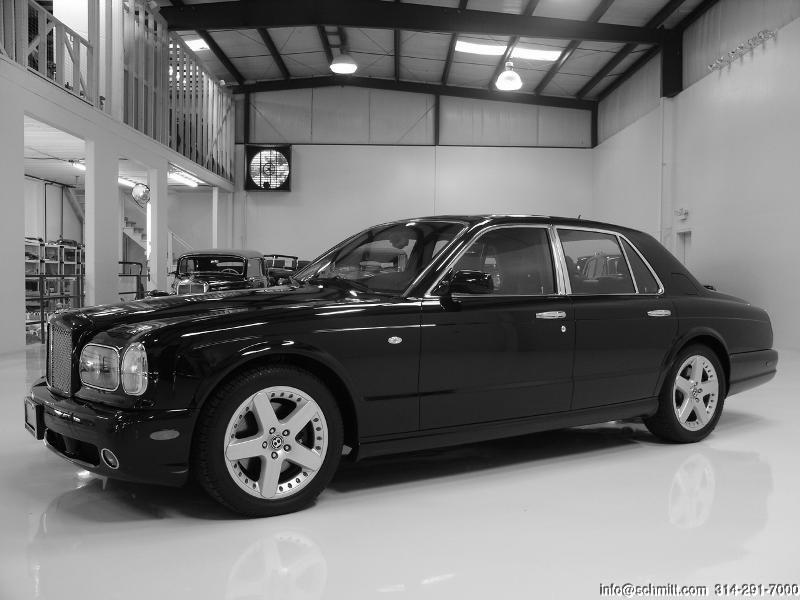car: (22, 214, 783, 520)
